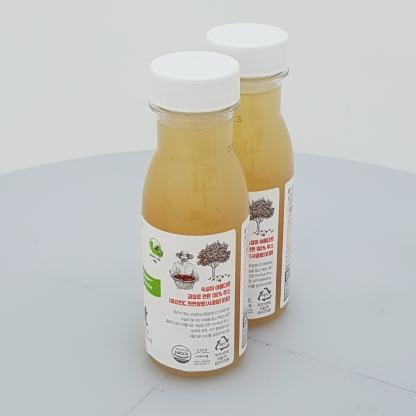--------------215ML: (141, 51, 250, 378)
